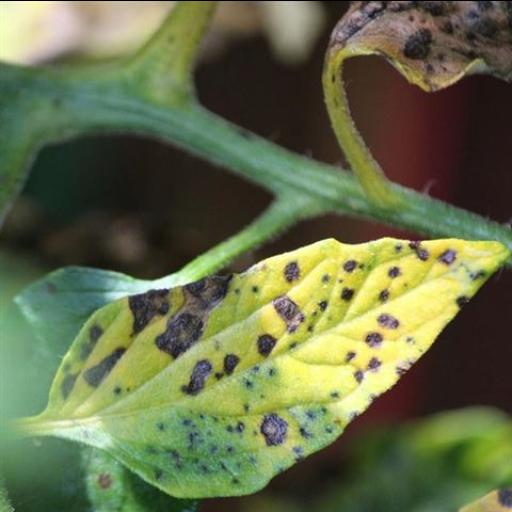Septoria: (48, 228, 510, 504)
